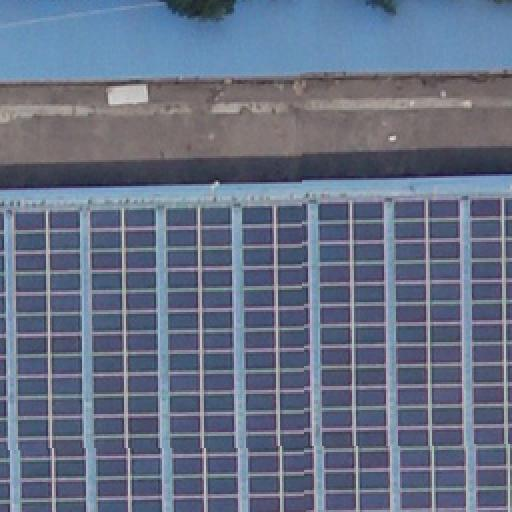solar-panel: (392, 196, 468, 512), (88, 204, 164, 512), (167, 201, 241, 511), (15, 208, 89, 512), (242, 200, 314, 512), (317, 198, 387, 512), (468, 196, 512, 512), (0, 208, 12, 512)
